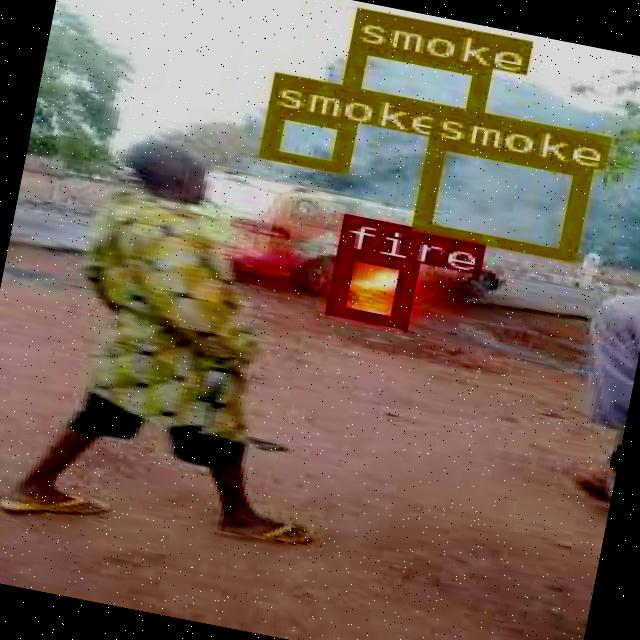fire: (324, 247, 416, 326)
smoke: (408, 134, 588, 258), (333, 39, 488, 143), (256, 104, 351, 172)
